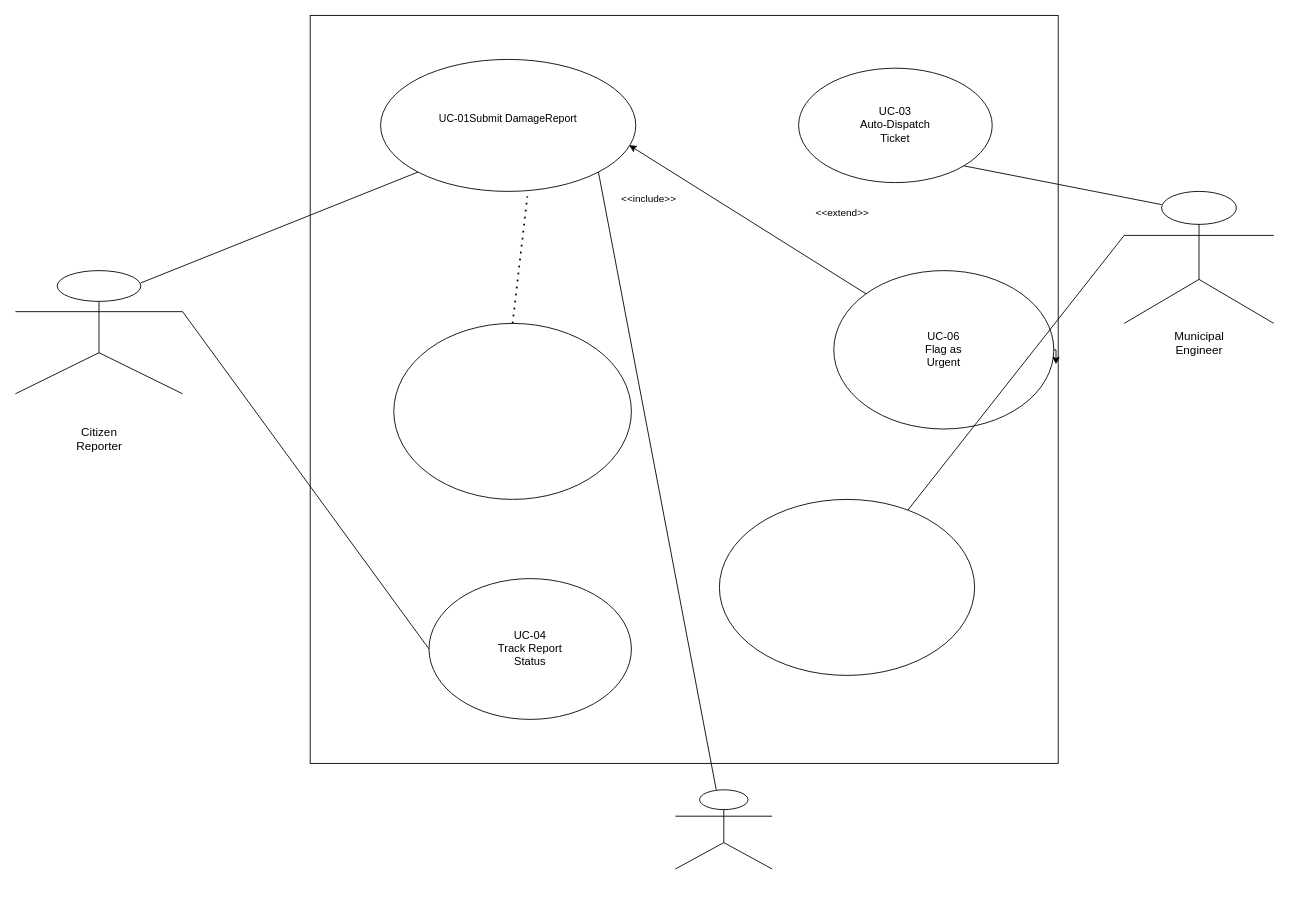
Image size: 1289x919. Some labels were removed from this diagram. The box of each missing label's shape, as (x1, y1, x2, y2) in pixels:
GIS / Mapping Service: (675, 789, 772, 869)
UC-02 Extract GPS Location: (393, 323, 631, 499)
UC-05 Update Ticket Status: (719, 499, 975, 675)
